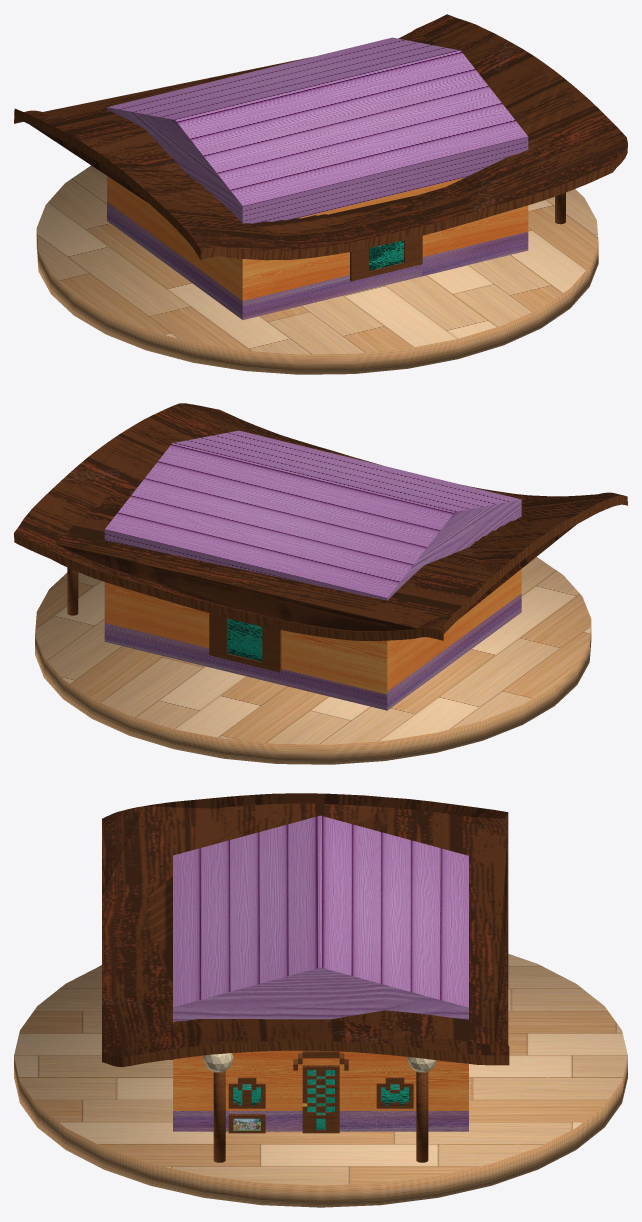
Rendered from escuela_bluey.fbx.
3 views of the same model, one above another, from view 1: azimuth 30°, elevation 25°; view 2: azimuth 150°, elevation 25°; view 3: azimuth 270°, elevation 25° (orthographic). The views are drawn at different scales.
Parts seen in each view (by area): view 1: Plane.001; view 2: Plane.001; view 3: Plane.001.
Part boxes in pixels (<box>): Plane.001: <box>14,14,627,374</box>; Plane.001: <box>14,403,627,764</box>; Plane.001: <box>14,793,627,1207</box>.
Size of the model in its own units: 1516 by 508 by 1516.
